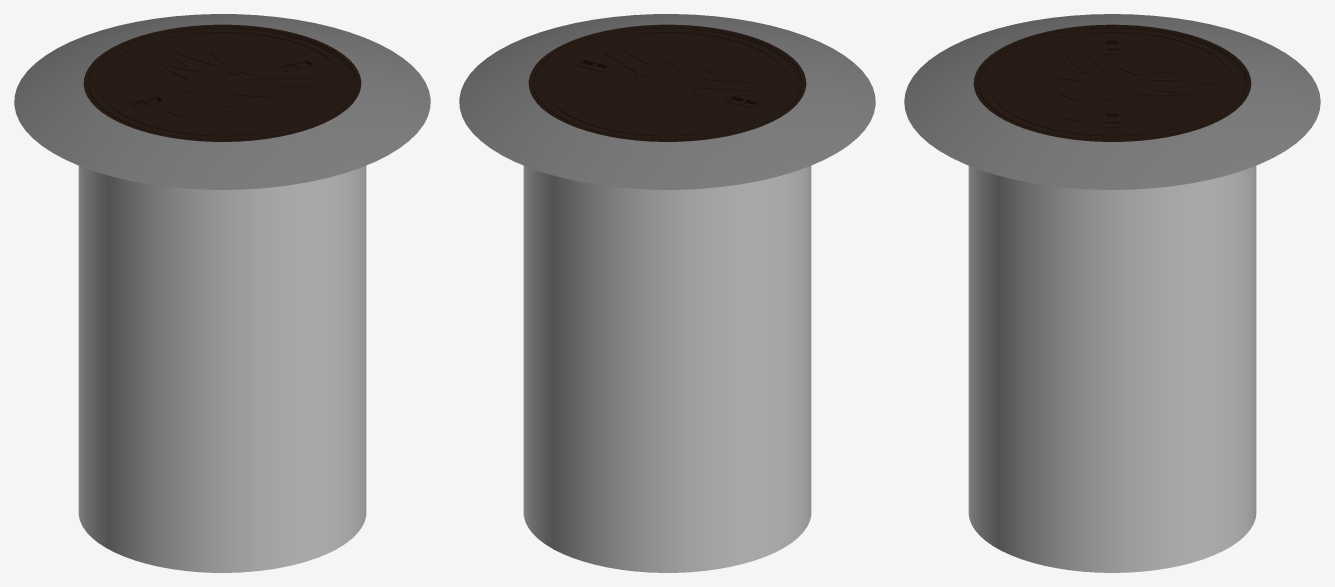
The model's file is ManHole.fbx.
The picture shows the model from 3 angles, left to right: view 1: azimuth 30°, elevation 25°; view 2: azimuth 150°, elevation 25°; view 3: azimuth 270°, elevation 25°; orthographic projection.
Visible parts, largest first — view 1: ManHole.001, ManHole, ManHole_Lid; view 2: ManHole.001, ManHole, ManHole_Lid; view 3: ManHole.001, ManHole, ManHole_Lid.
Boxes of the visible parts, x1=… form: ManHole.001: x1=78, y1=166, x2=366, y2=572; ManHole: x1=14, y1=14, x2=430, y2=189; ManHole_Lid: x1=89, y1=27, x2=355, y2=140; ManHole.001: x1=523, y1=166, x2=811, y2=572; ManHole: x1=459, y1=14, x2=875, y2=189; ManHole_Lid: x1=534, y1=27, x2=800, y2=140; ManHole.001: x1=968, y1=166, x2=1256, y2=572; ManHole: x1=904, y1=14, x2=1320, y2=189; ManHole_Lid: x1=978, y1=27, x2=1246, y2=140.
Bounding box in the file's own units: 1.01 × 1.15 × 1.01.
